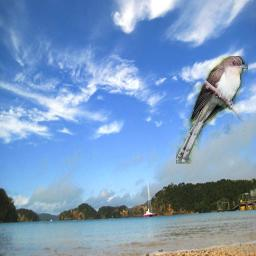Cuckoo: (176, 56, 248, 164)
